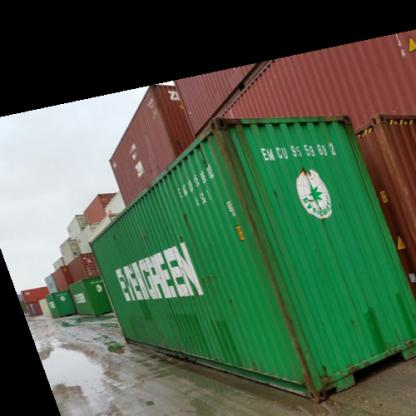Damage: (260, 234, 319, 386), (215, 113, 260, 236)
